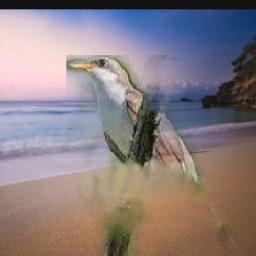Cuckoo: (67, 55, 245, 256)
